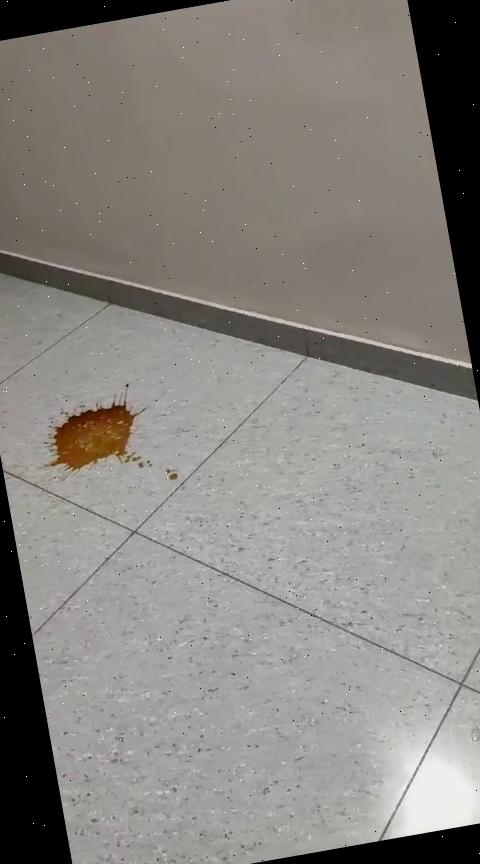dirty_floor: (30, 371, 179, 523)
